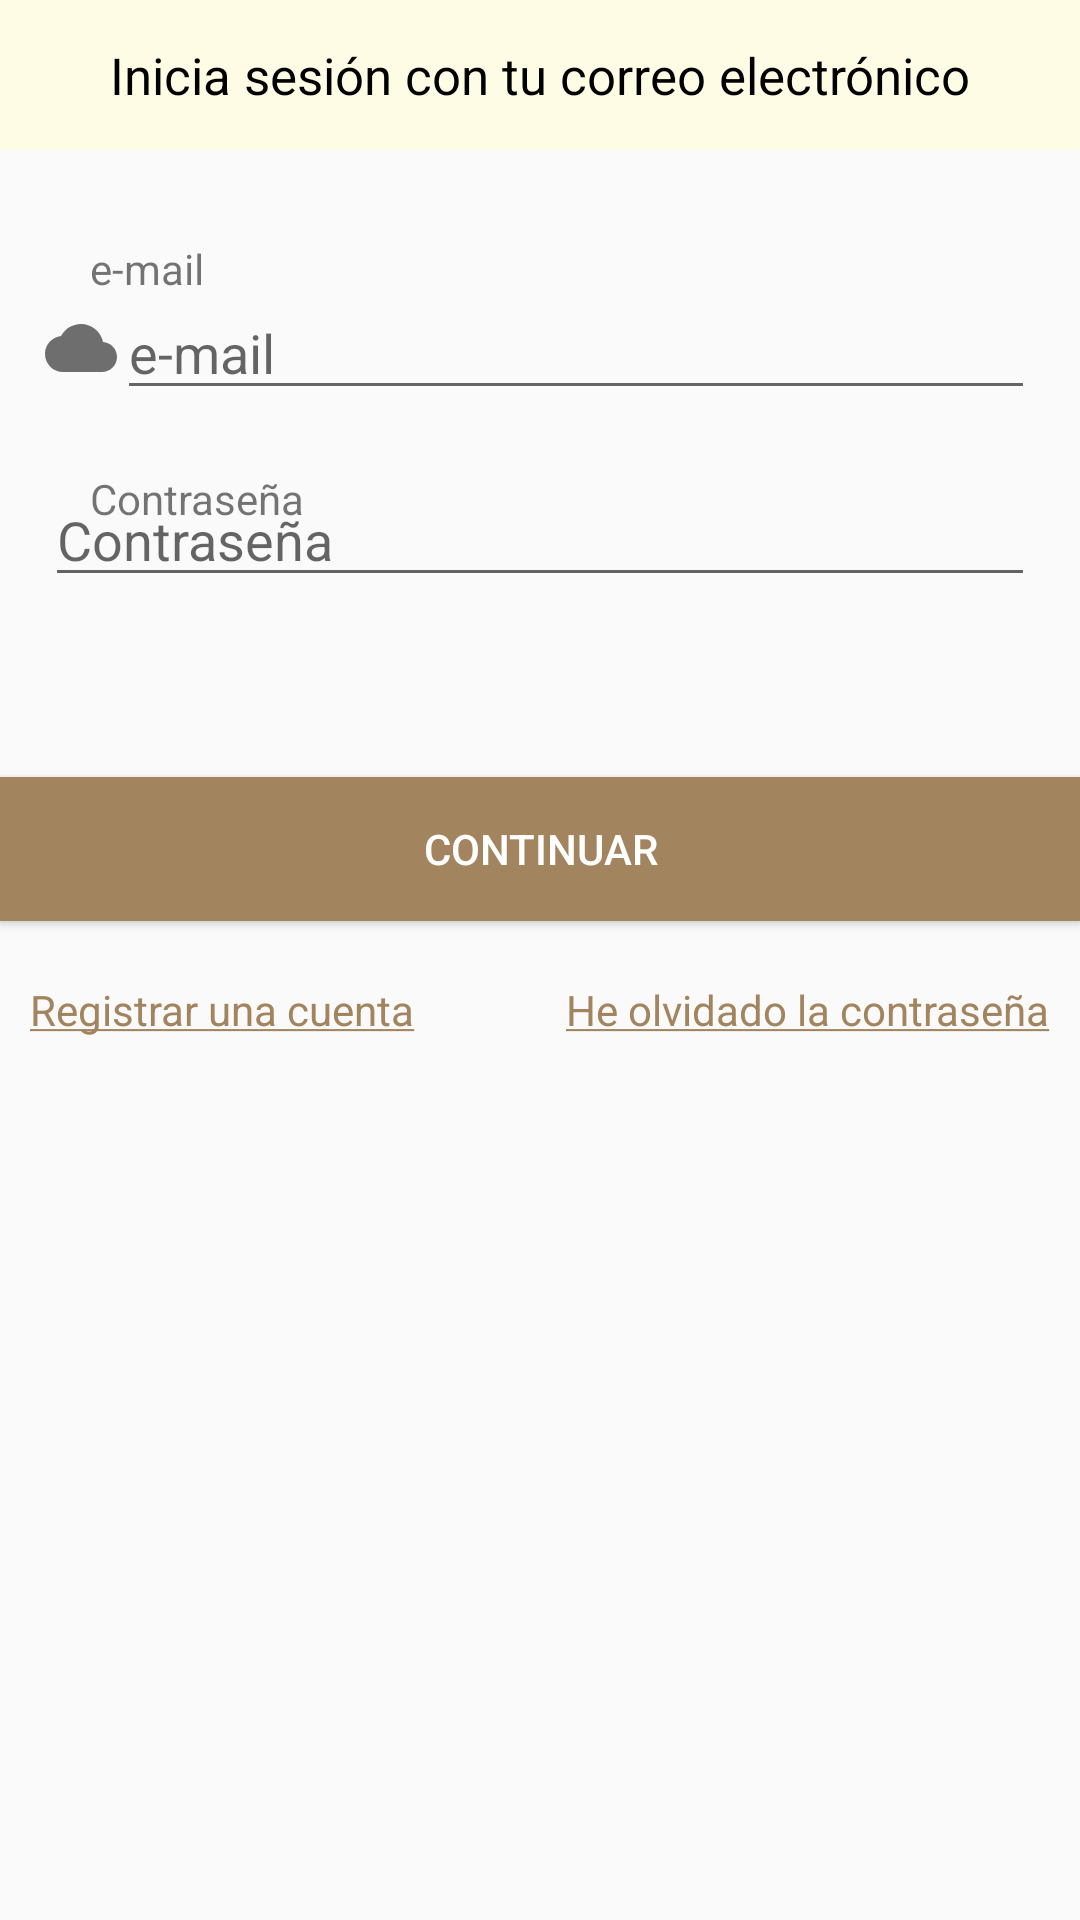

Icons on this 1080px x 1920px Android screen, each with the point to tap as [x,y]:
cloud: [81,348]
